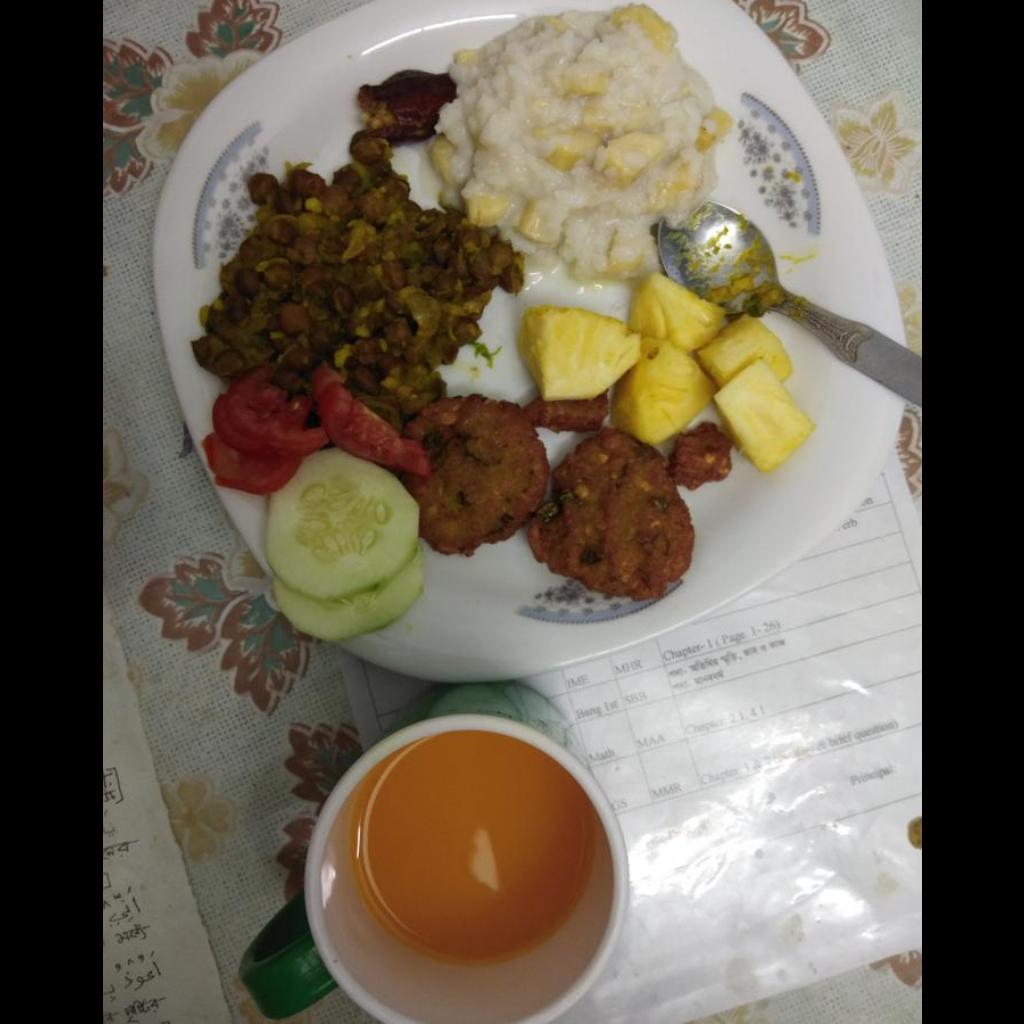chola: (198, 148, 517, 408)
cucumber: (264, 449, 423, 642)
juice: (358, 731, 592, 967)
payesh: (432, 6, 729, 282)
peyaju: (425, 396, 695, 604)
pineapple: (524, 271, 811, 473)
tomato: (201, 366, 429, 495)
